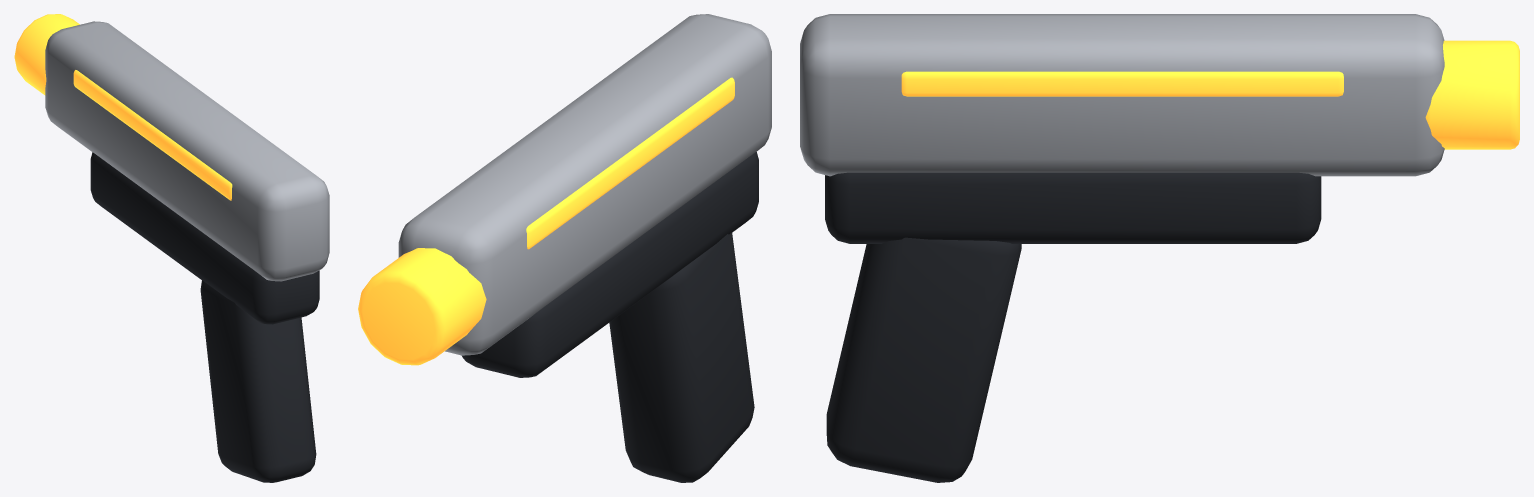
File: pistol.glb
3 views of the same model, side by side, from view 1: azimuth 30°, elevation 25°; view 2: azimuth 150°, elevation 25°; view 3: azimuth 270°, elevation 25° (orthographic). The views are drawn at different scales.
Visible parts, largest first — view 1: Slide, Grip, Frame, SlideGlow, Emitter; view 2: Slide, Grip, Frame, Emitter, SlideGlow; view 3: Slide, Grip, Frame, SlideGlow, Emitter.
Boxes of the visible parts, x1,y1,x2,y2 form: Slide: (45, 21, 329, 281); Grip: (200, 280, 316, 482); Frame: (90, 152, 319, 324); SlideGlow: (73, 70, 232, 200); Emitter: (14, 14, 79, 95); Slide: (398, 14, 771, 355); Grip: (609, 232, 754, 482); Frame: (461, 152, 758, 377); Emitter: (358, 248, 486, 365); SlideGlow: (526, 77, 734, 249); Slide: (800, 14, 1444, 176); Grip: (826, 237, 1021, 482); Frame: (825, 172, 1321, 243); SlideGlow: (901, 71, 1343, 96); Emitter: (1425, 40, 1519, 149).
Size of the model in its own units: 0.047 by 0.1974 by 0.29.
